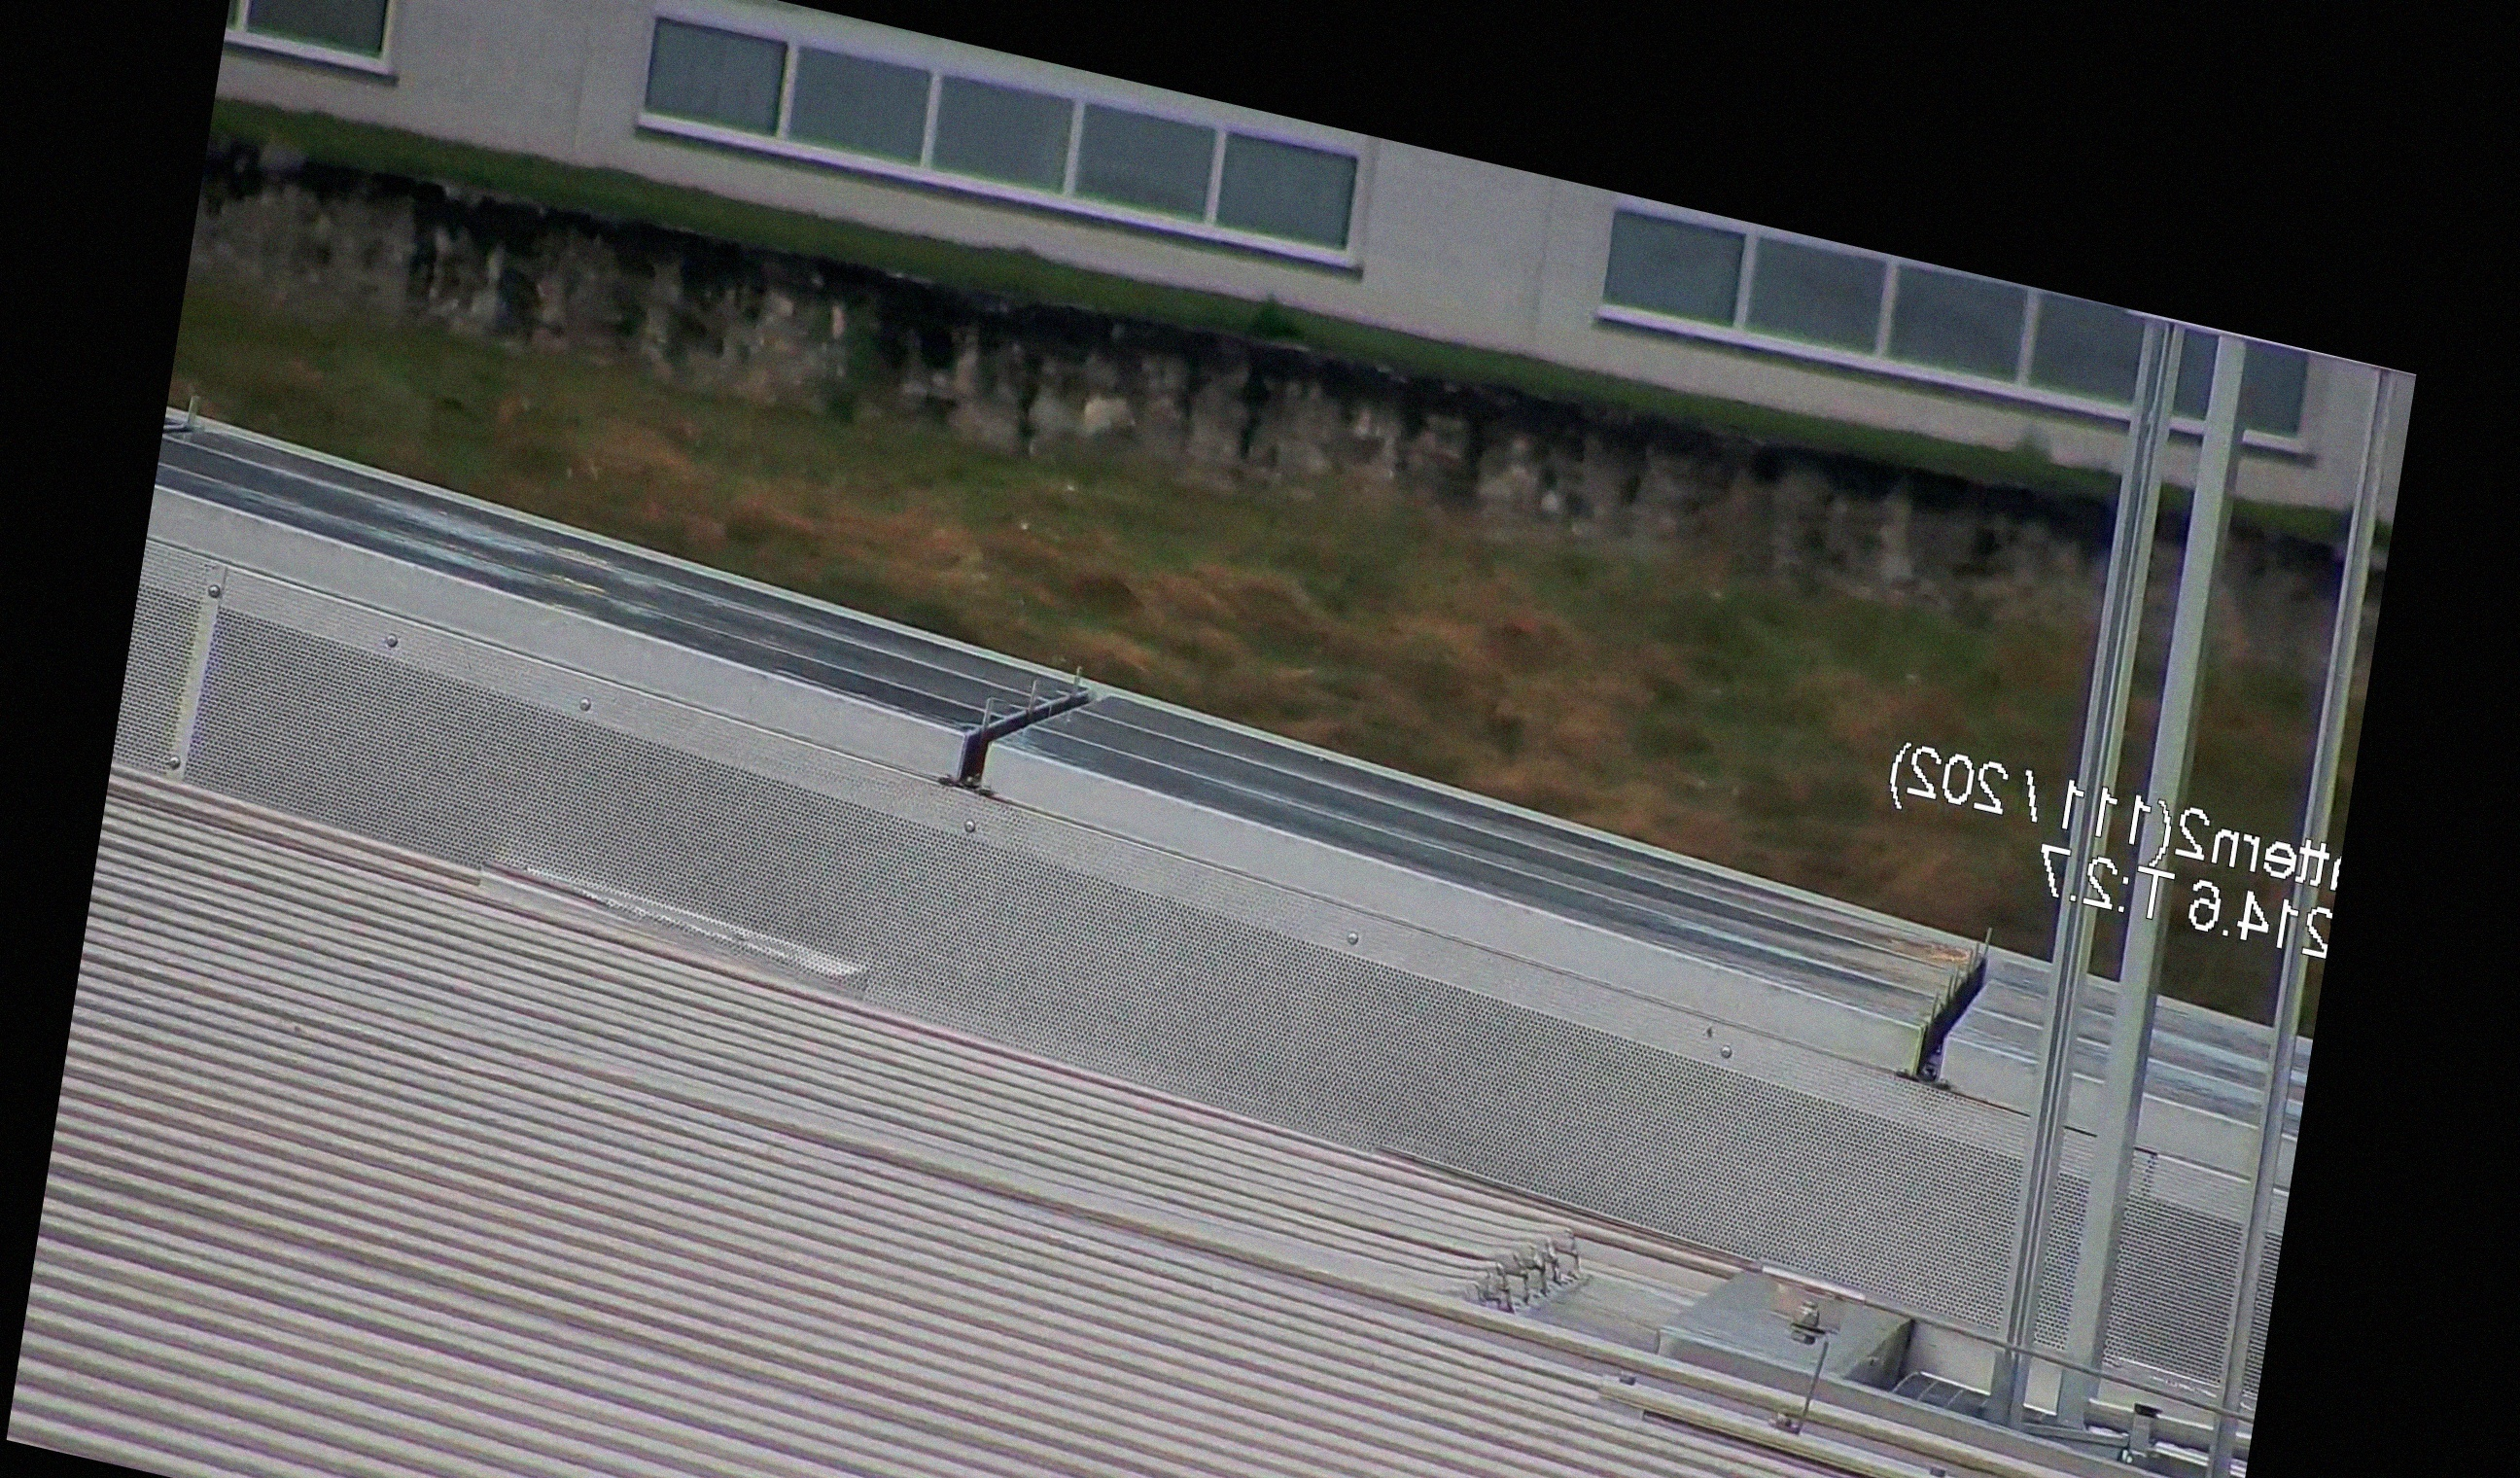Other: (1906, 910, 2029, 1107)
